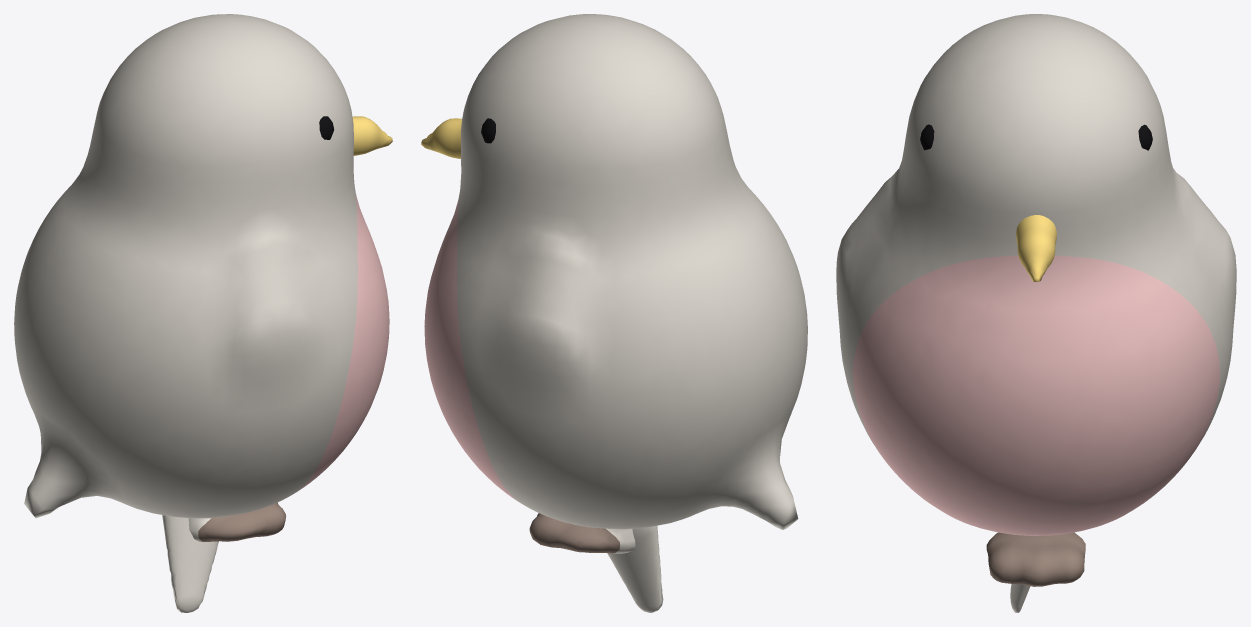
File: penguin107_baby.glb
3 renders of one model, left to right at view 1: azimuth 30°, elevation 25°; view 2: azimuth 150°, elevation 25°; view 3: azimuth 270°, elevation 25°, orthographic. The views are drawn at different scales.
Parts seen in each view (by area): view 1: body, wing, leg, beak; view 2: body, wing, leg, beak; view 3: body, leg, beak, eye.
Part boxes in pixels (x1=…): body: x1=14, y1=14, x2=389, y2=518; wing: x1=162, y1=515, x2=218, y2=612; leg: x1=188, y1=502, x2=286, y2=542; beak: x1=352, y1=116, x2=392, y2=155; body: x1=424, y1=14, x2=807, y2=529; wing: x1=607, y1=525, x2=663, y2=612; leg: x1=529, y1=513, x2=635, y2=553; beak: x1=421, y1=118, x2=461, y2=158; body: x1=836, y1=14, x2=1236, y2=535; leg: x1=986, y1=532, x2=1085, y2=586; beak: x1=1016, y1=215, x2=1056, y2=281; eye: x1=920, y1=124, x2=1152, y2=150.
Bounding box in the file's own units: 1.37 × 2.05 × 1.23.
